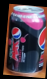pepsi: (8, 5, 46, 75)
